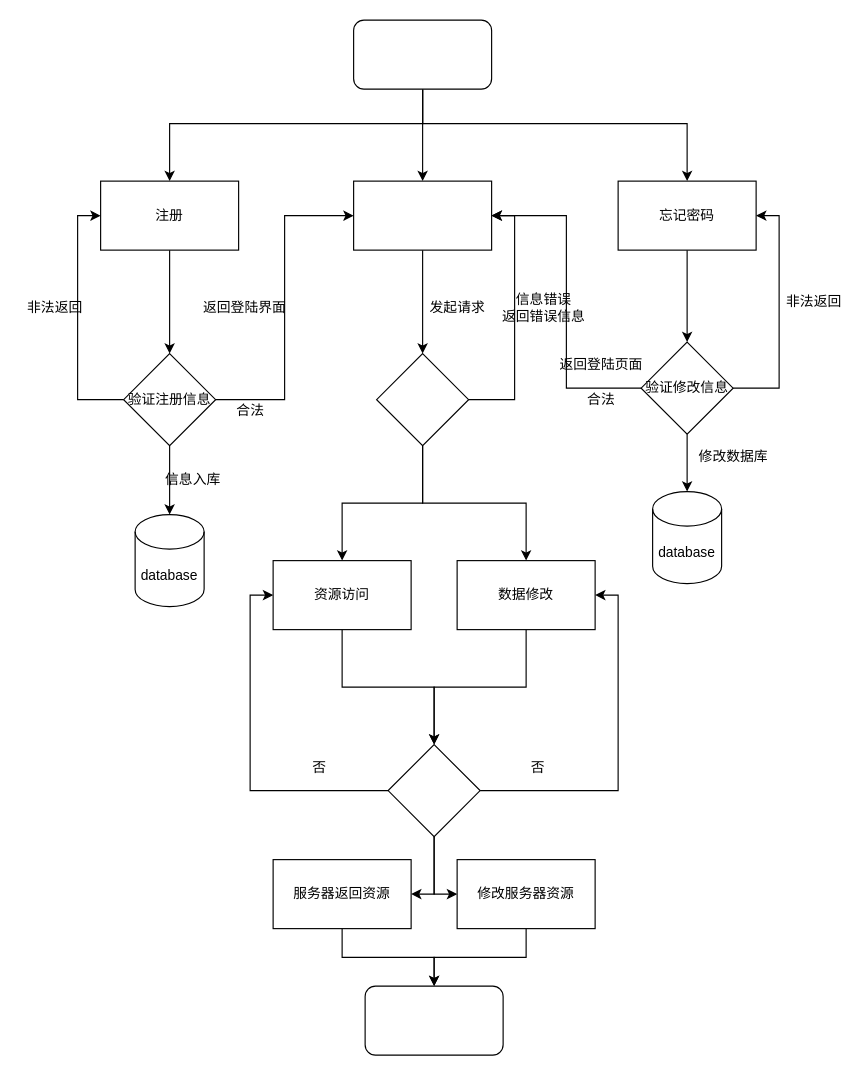
This 867x1075 diagram has some shape labels left out. Each missing label, with the box of its shape:
client: (352, 19, 492, 89)
权限判定，资源判定: (387, 743, 480, 837)
浏览器呈现结果: (364, 985, 503, 1055)
登陆: (352, 180, 492, 250)
验证信息: (375, 352, 469, 446)
